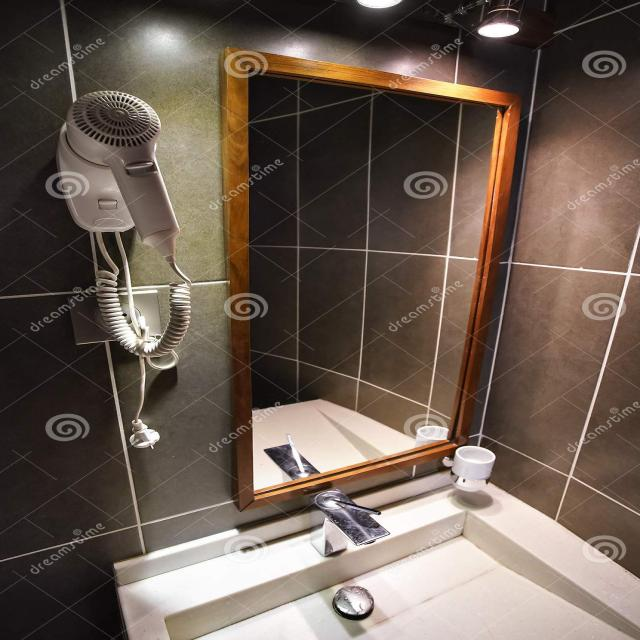dryer: (30, 77, 215, 400), (46, 87, 202, 279)
